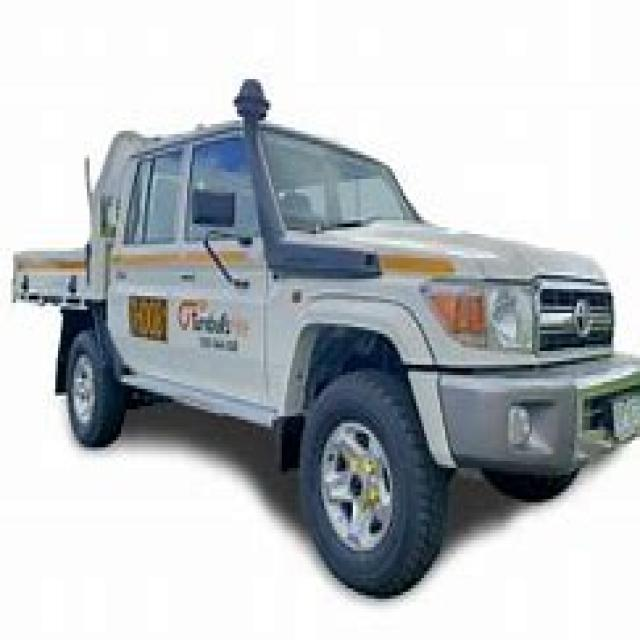light_vehicle: (3, 97, 637, 606)
